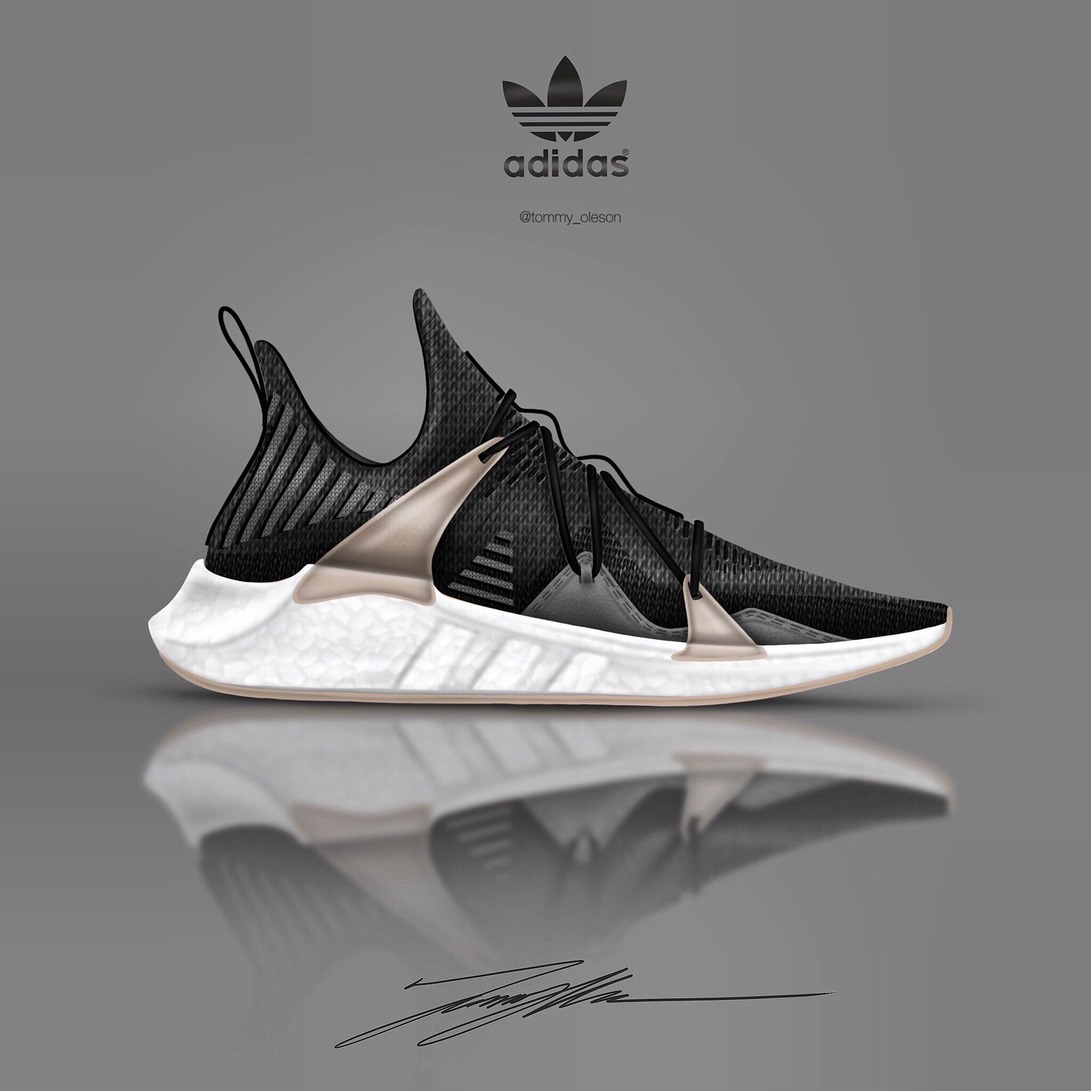sneaker: (115, 277, 992, 733)
